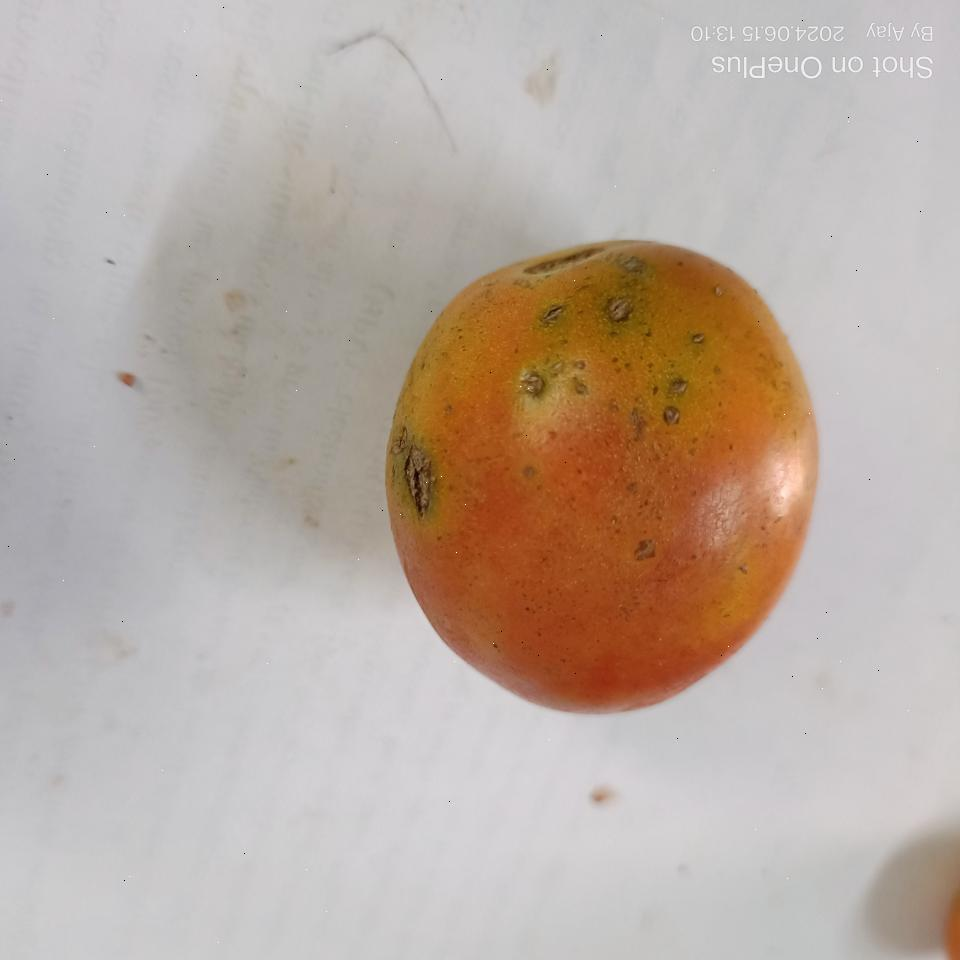Bacterial_Spot: (390, 426, 446, 526), (654, 369, 700, 432), (595, 294, 644, 334), (532, 296, 574, 334), (624, 530, 663, 565), (511, 371, 551, 401)
